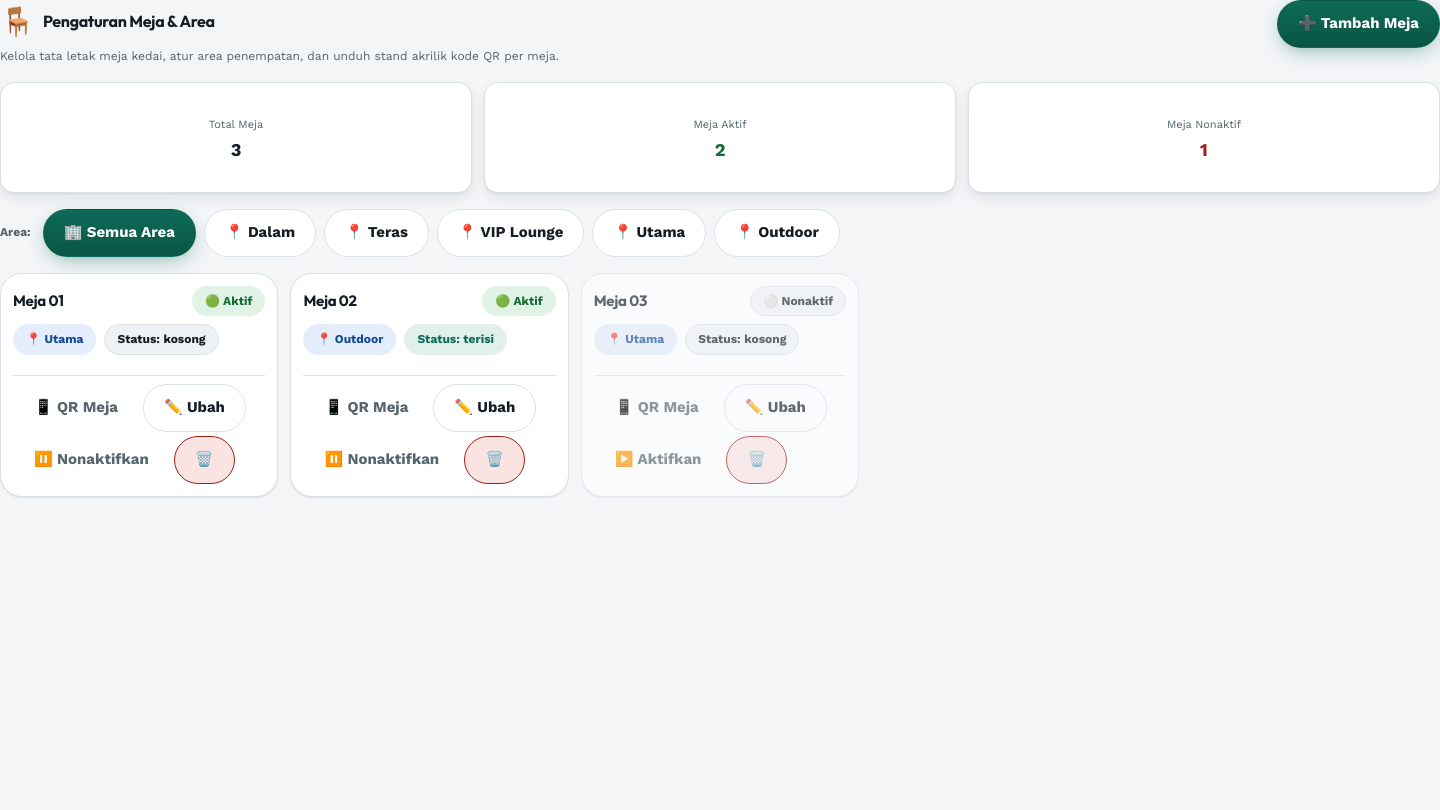
it: Layar Pengaturan Meja & Area (T9-04) › 4. Menolak tambah meja baru bila nama kembar di cabang yang sama
This screenshot has width=1440, height=810.
Click the button with aria-label "Tambah Meja Baru" at (1359, 24), box [1277, 0, 1439, 48]
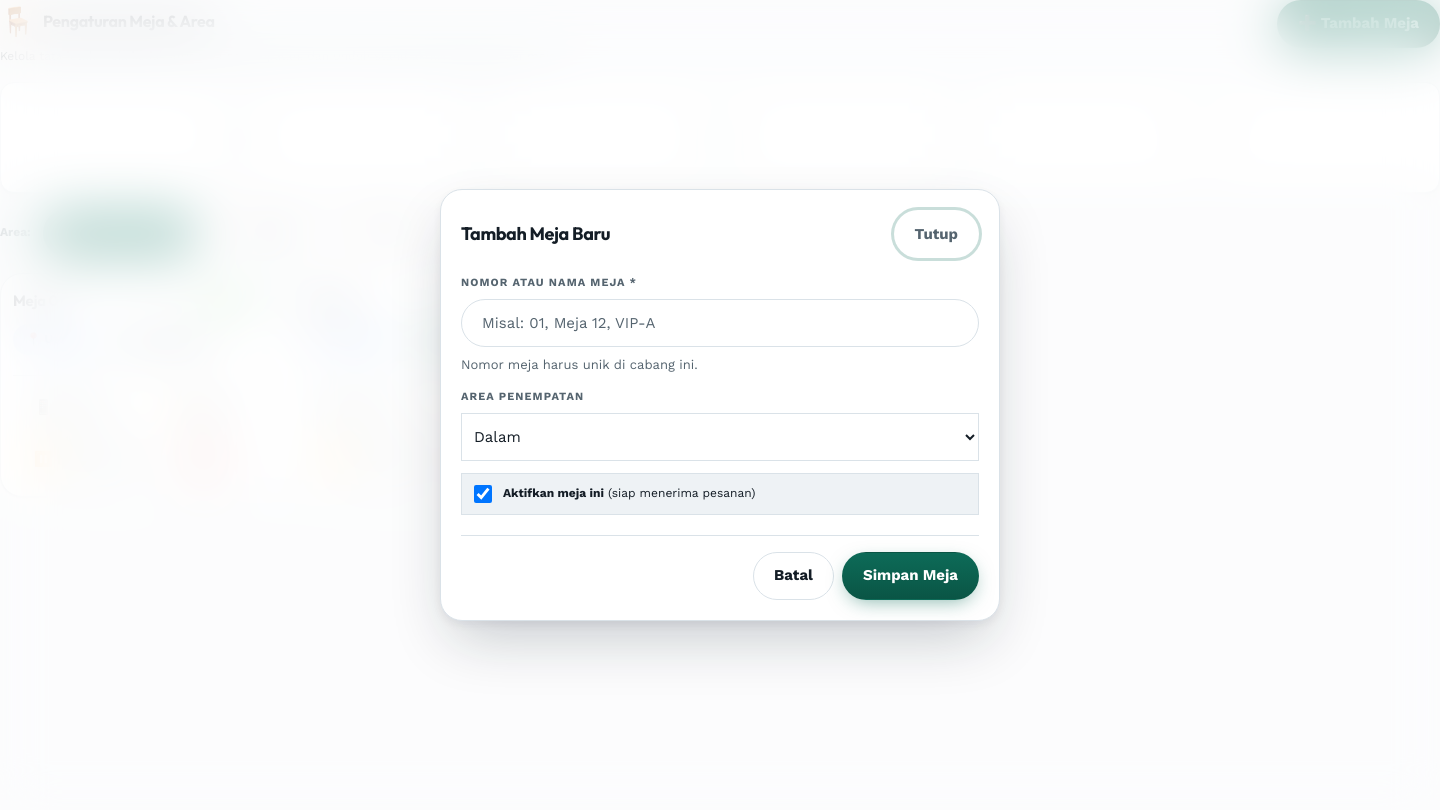
Type "Meja 01" into the field labelled "Nomor atau Nama Meja *" at (720, 323), box [461, 299, 979, 347]
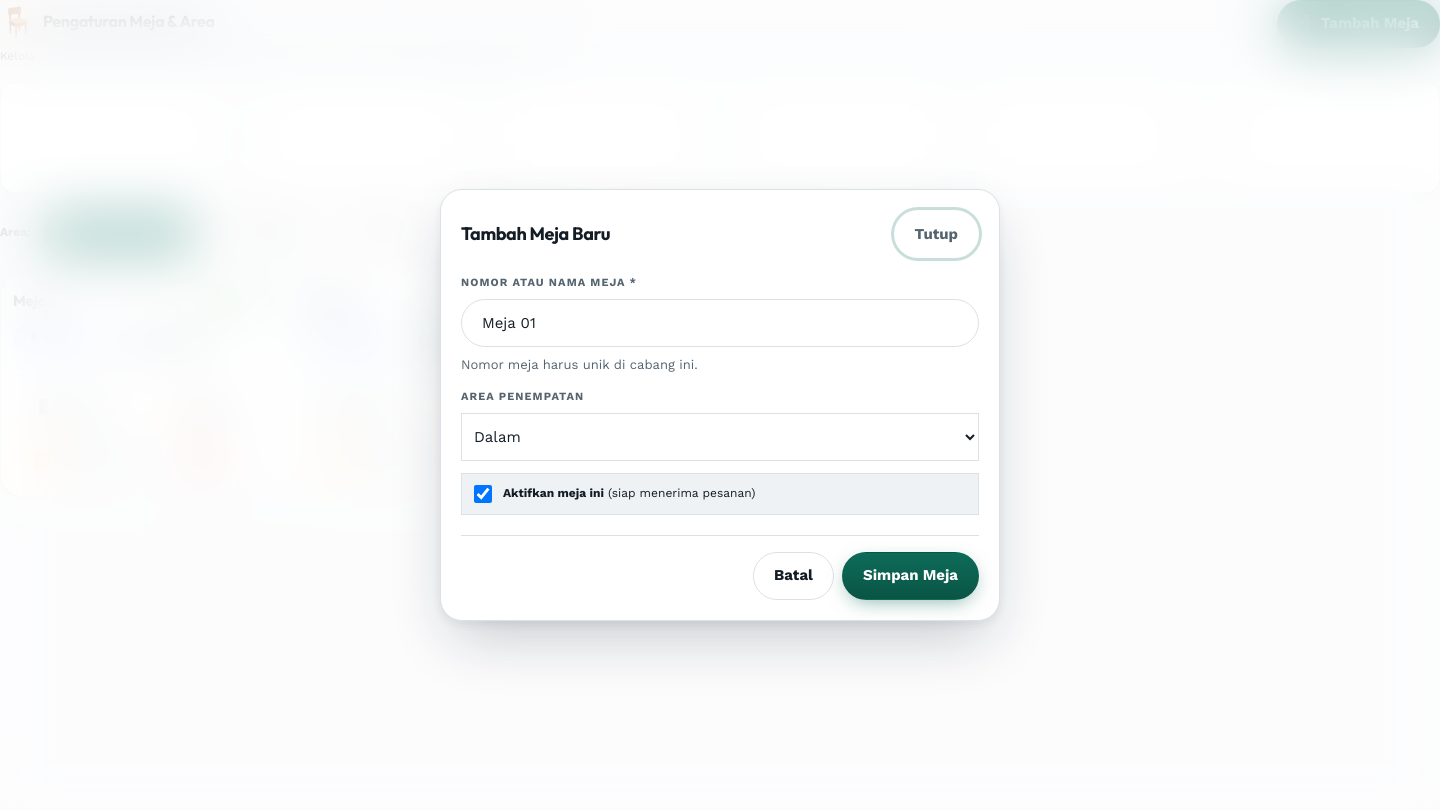
Click the button with aria-label "Simpan data meja" at (910, 576), box [842, 552, 979, 600]
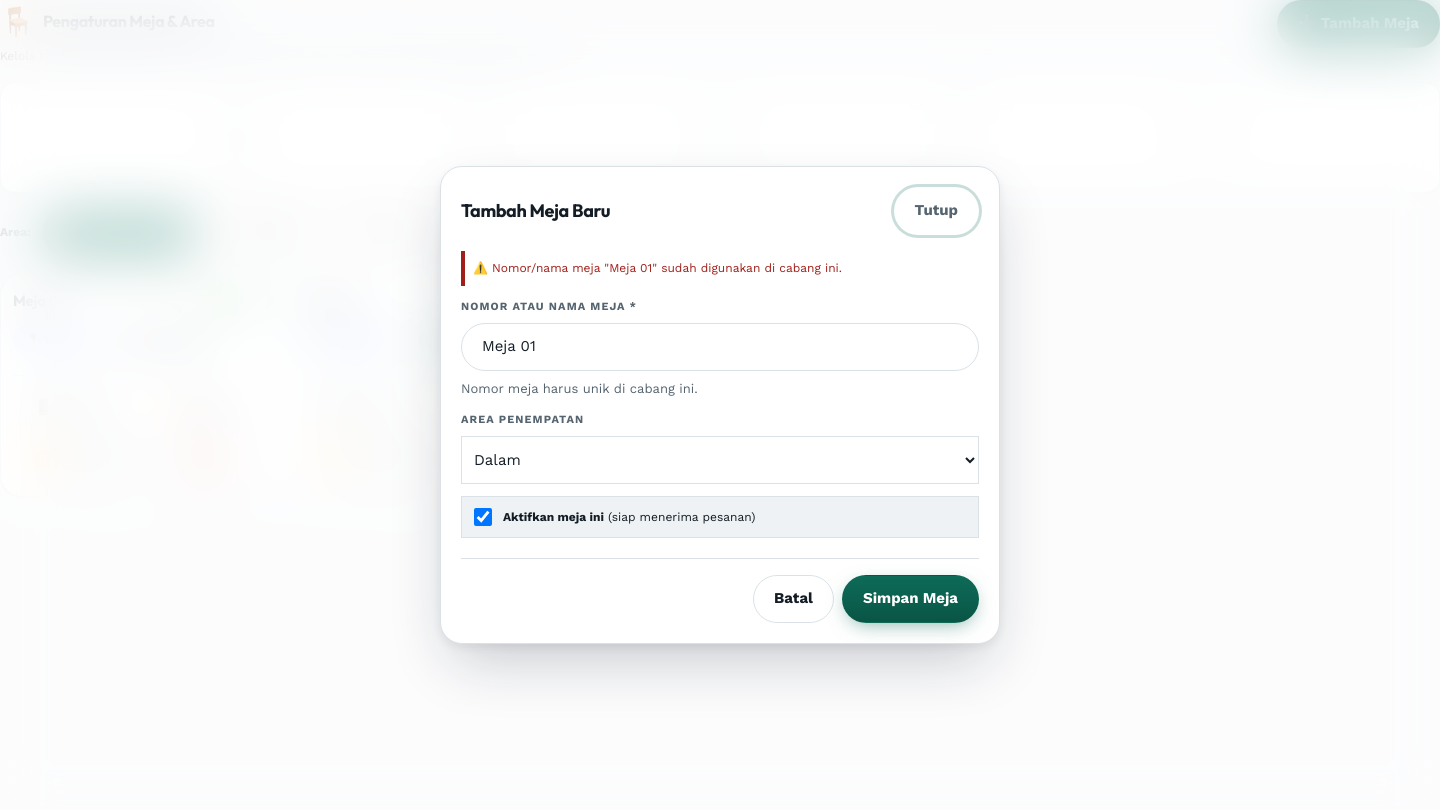
Expected: the text "⚠️ Nomor/nama meja \"Meja 01\" sudah digunakan di cabang ini." is shown, [461, 251, 979, 286]
